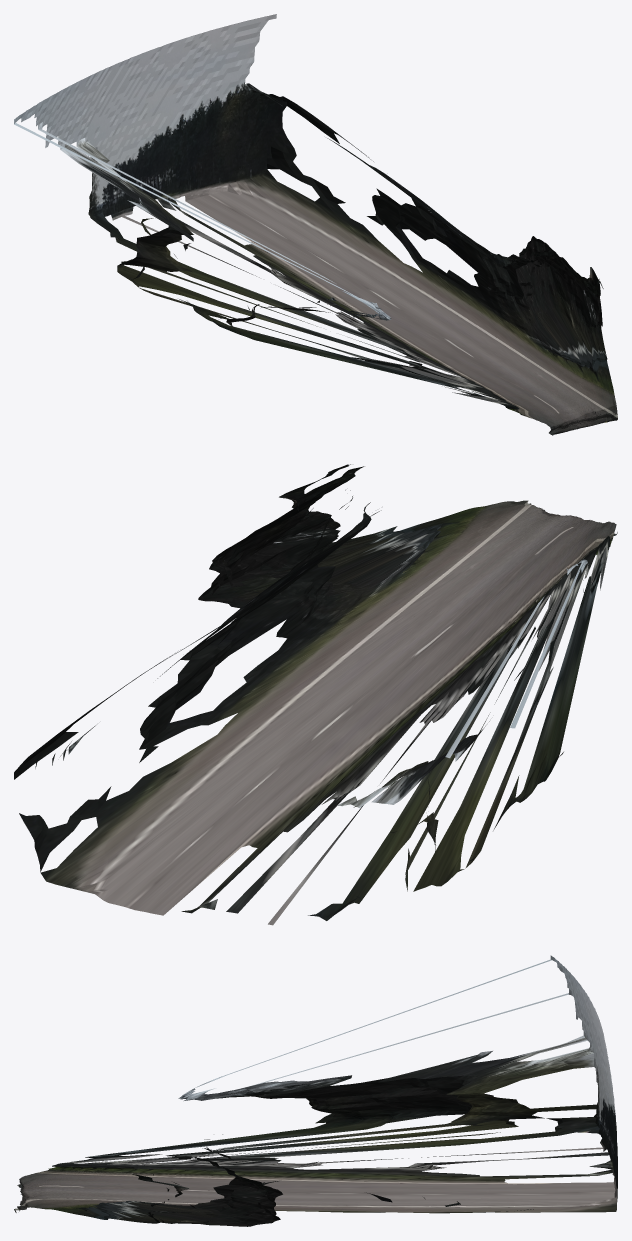
The picture shows the model from 3 angles, top to bottom: view 1: azimuth 30°, elevation 25°; view 2: azimuth 150°, elevation 25°; view 3: azimuth 270°, elevation 25°; orthographic projection. The views are drawn at different scales.
Parts seen in each view (by area): view 1: defaultobject; view 2: defaultobject; view 3: defaultobject.
Part boxes in pixels (left/top/right/bottom): defaultobject: left=14, top=14, right=617, bottom=435; defaultobject: left=14, top=464, right=617, bottom=925; defaultobject: left=14, top=955, right=617, bottom=1226.
Bounding box in the file's own units: 28.09 × 12.09 × 44.6.
1 material, 1 textured.
